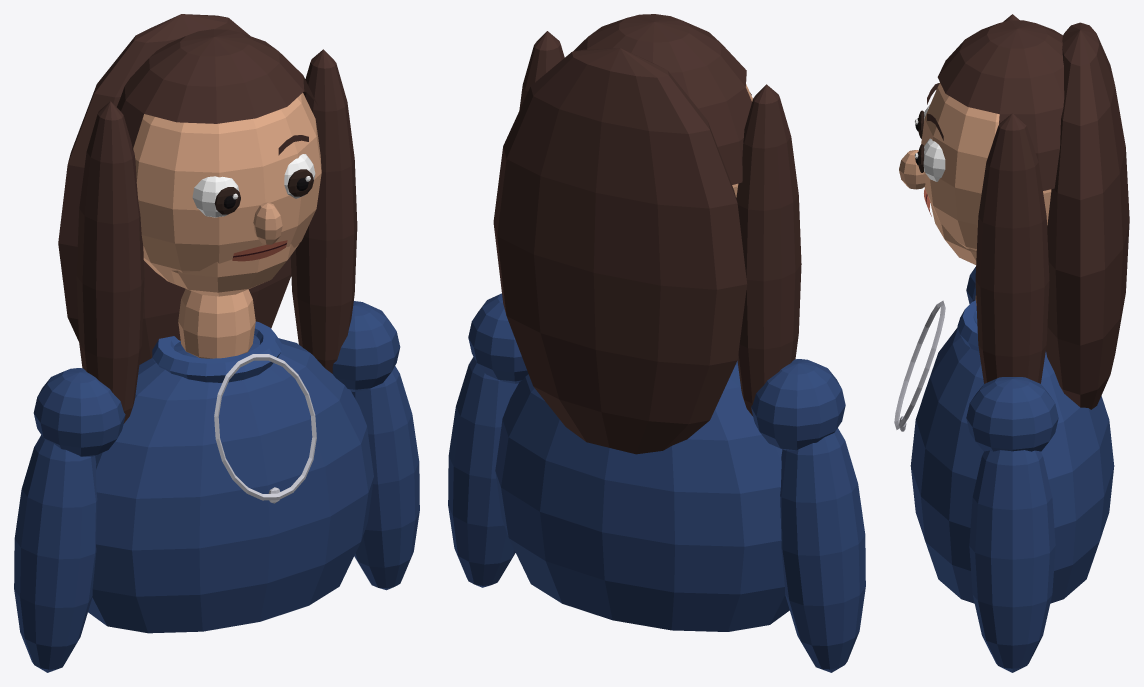
Rendered from portrait_partner.glb.
3 views of the same model, side by side, from view 1: azimuth 30°, elevation 25°; view 2: azimuth 150°, elevation 25°; view 3: azimuth 270°, elevation 25° (orthographic). The views are drawn at different scales.
Parts seen in each view (by area): view 1: Torso_partner, Skull_partner, HairFront-1_partner, Arm-1_partner, HairFront1_partner, HairCap_partner, HairBack_partner, Arm1_partner, Shoulder-1_partner, Neck_partner, Shoulder1_partner, Collar_partner (+5 smaller); view 2: HairBack_partner, Torso_partner, Arm-1_partner, HairFront-1_partner, Arm1_partner, HairCap_partner, Shoulder-1_partner, Shoulder1_partner, HairFront1_partner; view 3: HairBack_partner, Torso_partner, HairFront1_partner, Arm1_partner, HairCap_partner, Skull_partner, Shoulder1_partner, Necklace_partner, Collar_partner, Eyeball_R_partner, Nose_partner, Jaw_partner.
Part boxes in pixels (<box>): Torso_partner: <box>88,335,373,633</box>; Skull_partner: <box>133,93,321,283</box>; HairFront-1_partner: <box>76,101,144,423</box>; Arm-1_partner: <box>14,435,97,672</box>; HairFront1_partner: <box>290,49,357,373</box>; HairCap_partner: <box>117,29,317,150</box>; HairBack_partner: <box>58,14,291,364</box>; Arm1_partner: <box>351,366,419,590</box>; Shoulder-1_partner: <box>33,368,125,456</box>; Neck_partner: <box>178,289,255,358</box>; Shoulder1_partner: <box>332,301,400,391</box>; Collar_partner: <box>152,321,281,382</box>; HairBack_partner: <box>493,48,747,454</box>; Torso_partner: <box>495,361,789,631</box>; Arm-1_partner: <box>780,428,865,672</box>; HairFront-1_partner: <box>736,84,801,415</box>; Arm1_partner: <box>448,357,518,587</box>; HairCap_partner: <box>573,14,751,184</box>; Shoulder-1_partner: <box>751,359,845,450</box>; Shoulder1_partner: <box>468,293,528,383</box>; HairFront1_partner: <box>519,31,564,110</box>; HairBack_partner: <box>1046,22,1129,409</box>; Torso_partner: <box>910,327,1114,603</box>; HairFront1_partner: <box>975,113,1049,383</box>; Arm1_partner: <box>969,450,1055,672</box>; HairCap_partner: <box>937,20,1064,190</box>; Skull_partner: <box>921,83,1051,250</box>; Shoulder1_partner: <box>966,377,1058,451</box>; Necklace_partner: <box>894,300,945,429</box>; Collar_partner: <box>957,300,1045,351</box>; Eyeball_R_partner: <box>923,138,945,181</box>; Nose_partner: <box>899,150,925,189</box>; Jaw_partner: <box>930,201,976,264</box>.
Size of what is drawn, in the model's own units: 0.7032 by 1.01 by 0.3816.
